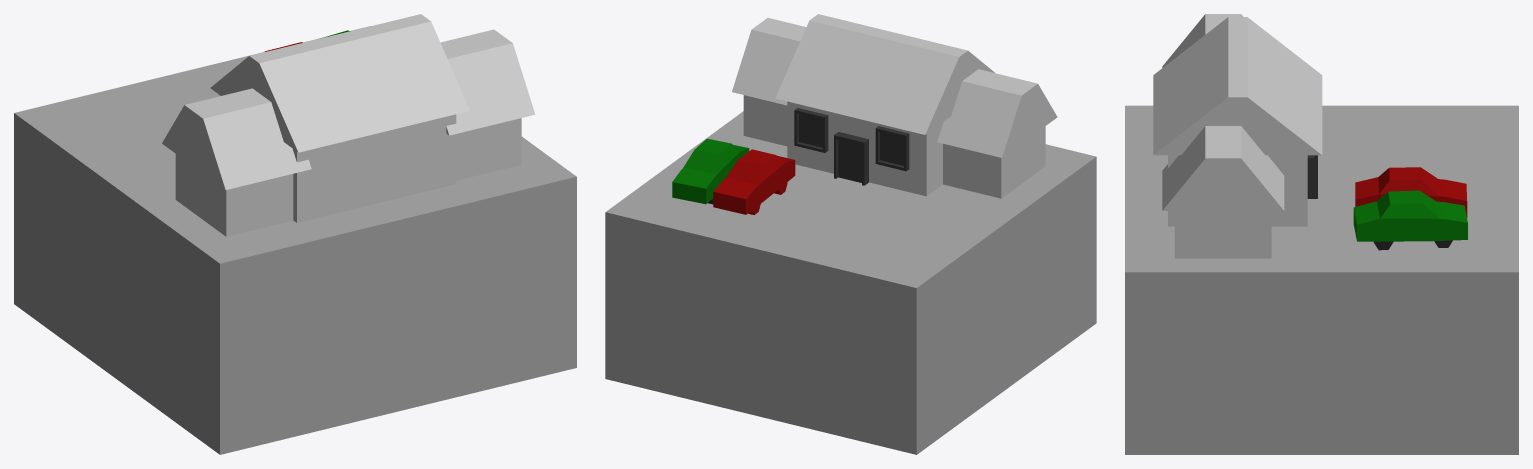
File: Suburban2.fbx
The picture shows the model from 3 angles, left to right: view 1: azimuth 30°, elevation 25°; view 2: azimuth 150°, elevation 25°; view 3: azimuth 270°, elevation 25°; orthographic projection. The views are drawn at different scales.
Visible parts, largest first — view 1: pCube1, pCube8, pCube78, pCube12; view 2: pCube1, pCube8, pCube78, Car (×2), pCube12, door1, door7, door6; view 3: pCube1, pCube8, pCube12, Car (×2), pCube78.
Part boxes in pixels (left/top/right/bottom): pCube1: left=14, top=26, right=576, bottom=454; pCube8: left=210, top=14, right=469, bottom=222; pCube78: left=162, top=88, right=311, bottom=236; pCube12: left=440, top=29, right=535, bottom=180; pCube1: left=605, top=111, right=1096, bottom=454; pCube8: left=775, top=14, right=995, bottom=196; pCube78: left=937, top=69, right=1057, bottom=198; Car (×2): left=672, top=138, right=795, bottom=214; pCube12: left=732, top=18, right=806, bottom=146; door1: left=834, top=132, right=868, bottom=185; door7: left=875, top=126, right=909, bottom=171; door6: left=794, top=108, right=828, bottom=152; pCube1: left=1125, top=105, right=1518, bottom=454; pCube8: left=1153, top=17, right=1322, bottom=226; pCube12: left=1162, top=126, right=1284, bottom=258; Car (×2): left=1353, top=167, right=1467, bottom=241; pCube78: left=1162, top=14, right=1243, bottom=67.
Bounding box in the file's own units: 1 × 0.8824 × 1.
